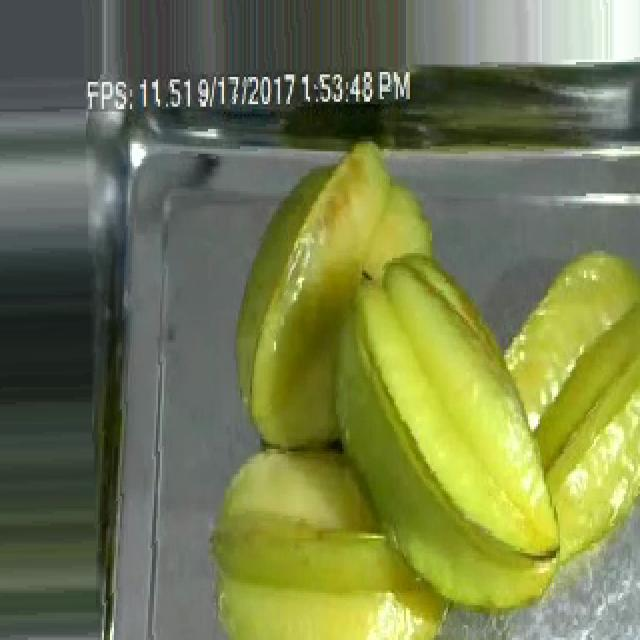fruit: (222, 238, 586, 610), (196, 429, 462, 640), (486, 238, 640, 571)
